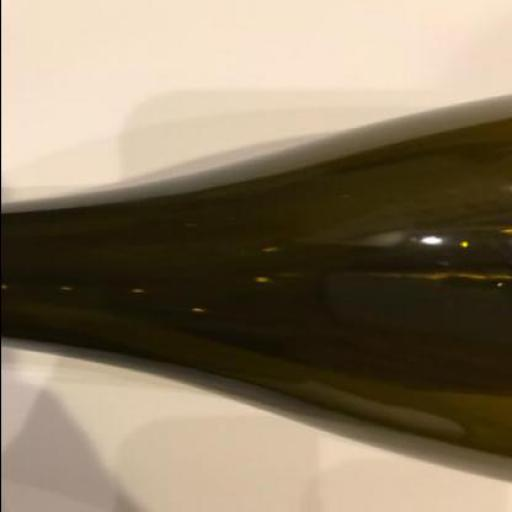glass: (1, 95, 511, 482)
